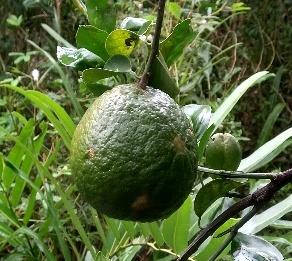Cam: (70, 81, 201, 224)
